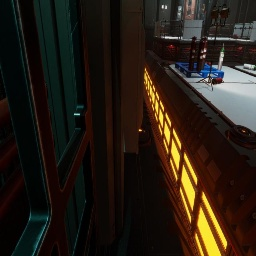0: (217, 43, 225, 70), (243, 63, 256, 70)
EmergencyPhone ,: (202, 3, 205, 10)
FireAlarm ,: (204, 11, 207, 15)
FireExtinguisher ]: (212, 78, 224, 85)
FirstAidBox ,: (205, 60, 212, 66)
NitrogenTank ,: (196, 37, 205, 72), (188, 37, 197, 71), (201, 37, 208, 70), (192, 36, 197, 42), (233, 34, 238, 39)
SafetySwitchPanel ,: (122, 0, 146, 154), (176, 6, 182, 21)
